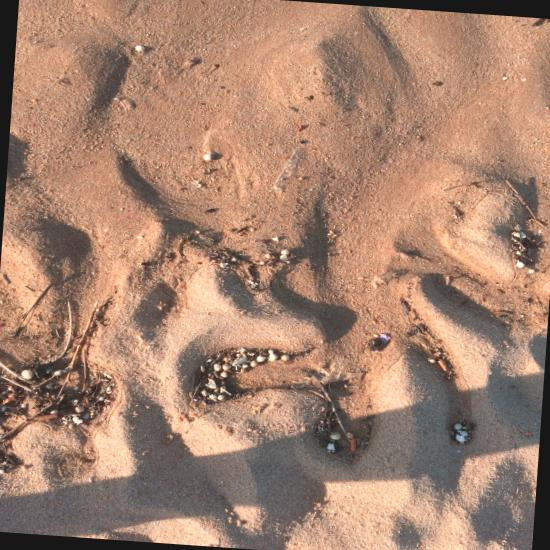Cigarette: (437, 360, 449, 371), (350, 438, 356, 450)
Plastic film: (288, 364, 363, 388), (273, 146, 308, 191)
Styrofoam piece: (232, 356, 247, 366), (455, 434, 464, 442), (327, 443, 333, 449), (75, 419, 83, 423), (529, 269, 533, 273)
